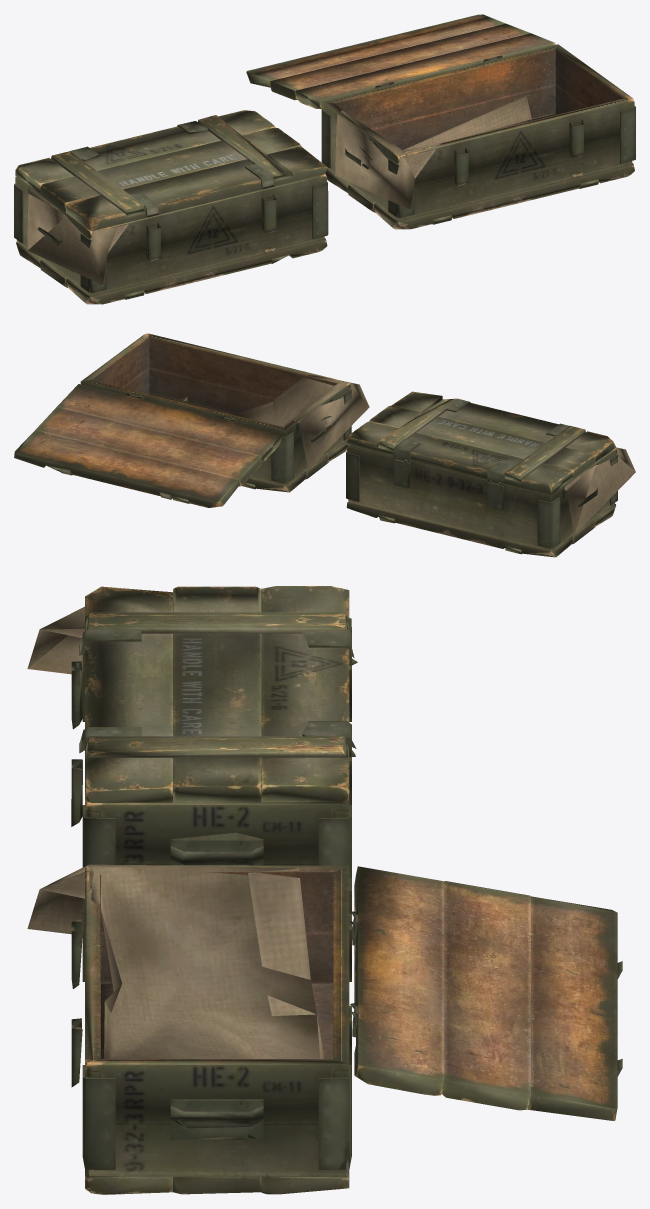
The model's file is old_military_crate.glb.
3 views of the same model, one above another, from view 1: azimuth 30°, elevation 25°; view 2: azimuth 150°, elevation 25°; view 3: azimuth 270°, elevation 25° (orthographic). The views are drawn at different scales.
Visible parts, largest first — view 1: old_military_crate_lid_a; view 2: old_military_crate_lid_a; view 3: old_military_crate_lid_a.
Part boxes in pixels (x1,y1,x2,y2): old_military_crate_lid_a: [14, 14, 635, 304]; old_military_crate_lid_a: [14, 333, 635, 557]; old_military_crate_lid_a: [27, 586, 622, 1194].
Size of the model in its own units: 1.81 by 0.289 by 0.9677.
Materials: 1 (1 with a texture image).
